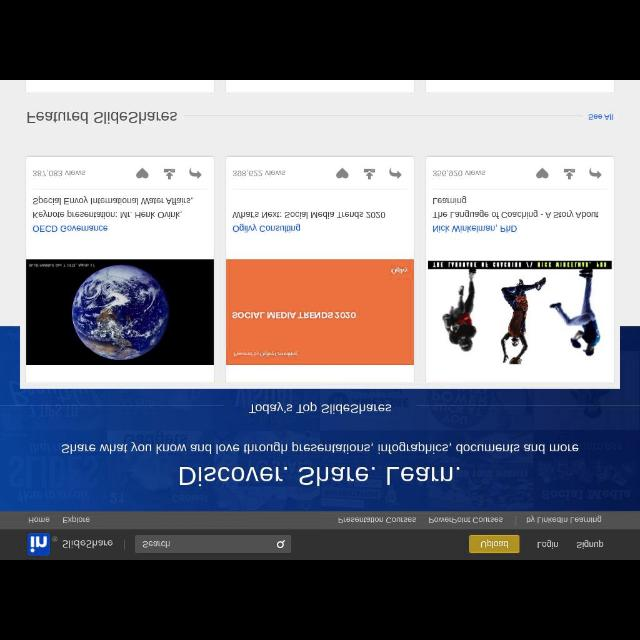backgroundimage: (1, 326, 640, 510)
icon: (136, 167, 150, 179), (163, 168, 175, 180), (190, 167, 202, 179), (337, 167, 349, 179), (363, 168, 375, 180), (536, 167, 548, 179), (564, 168, 576, 180), (590, 167, 602, 179), (390, 168, 402, 178), (276, 540, 286, 548)
image: (427, 261, 613, 383), (226, 260, 414, 364), (27, 260, 213, 364), (28, 532, 50, 556)
input: (134, 536, 292, 552)
multitab: (1, 511, 640, 529)
text: (61, 441, 580, 455), (178, 465, 460, 487), (432, 196, 600, 218), (33, 196, 193, 218), (27, 110, 177, 124), (248, 402, 392, 414), (232, 211, 386, 219), (526, 514, 602, 524), (232, 223, 302, 233), (432, 225, 518, 233), (338, 516, 416, 524), (32, 225, 108, 232), (63, 539, 114, 549), (429, 517, 503, 523), (232, 169, 286, 177), (432, 169, 486, 177), (33, 169, 86, 177), (588, 110, 614, 122), (576, 539, 604, 549), (142, 540, 170, 548), (62, 515, 90, 523), (537, 539, 559, 549), (28, 516, 50, 524)
textbutton: (469, 535, 519, 553)
